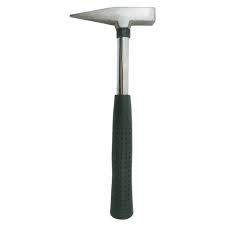hammer: (68, 6, 156, 220)
